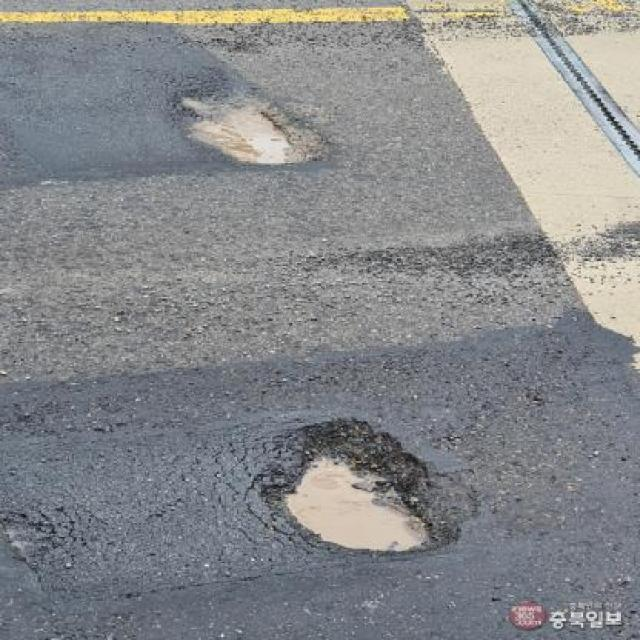pothole: (247, 408, 476, 559), (176, 77, 333, 171)
